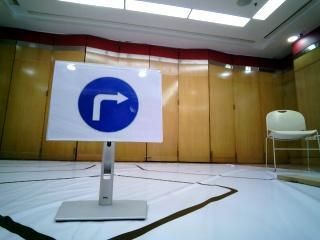right: (59, 65, 163, 145)
